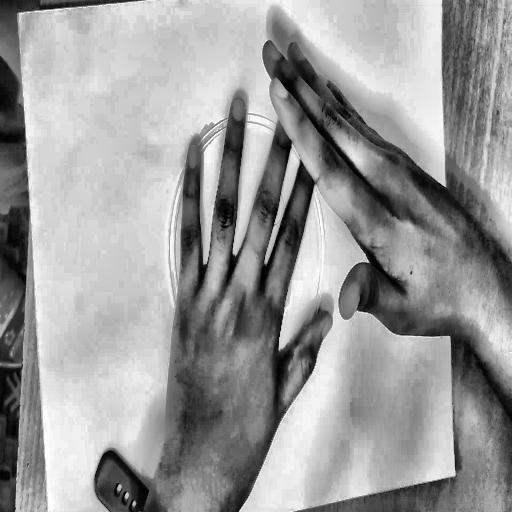bottom_right: (451, 466, 460, 482)
button: (154, 92, 350, 410)
top_left: (15, 8, 22, 20)
